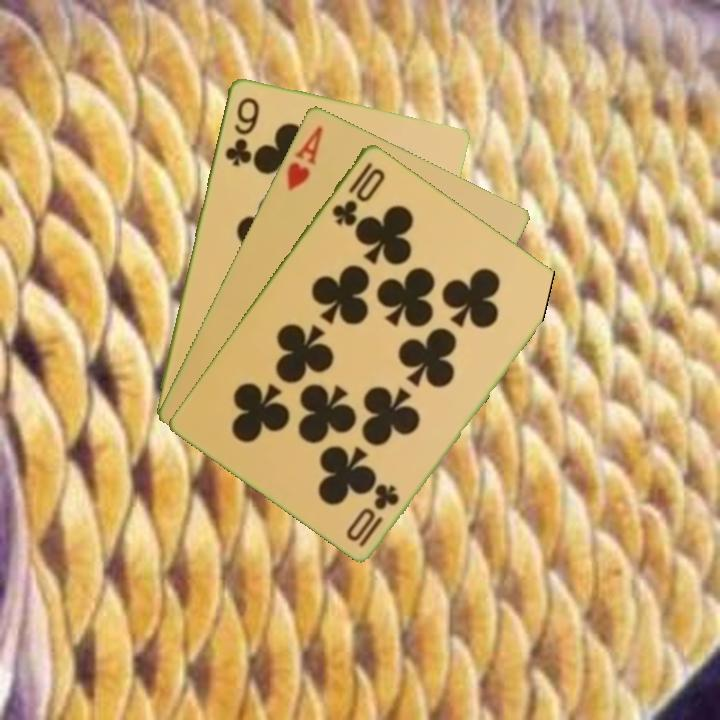10c: (327, 158, 388, 229), (343, 480, 403, 550)
9c: (221, 93, 262, 169)
Ah: (282, 121, 326, 194)
